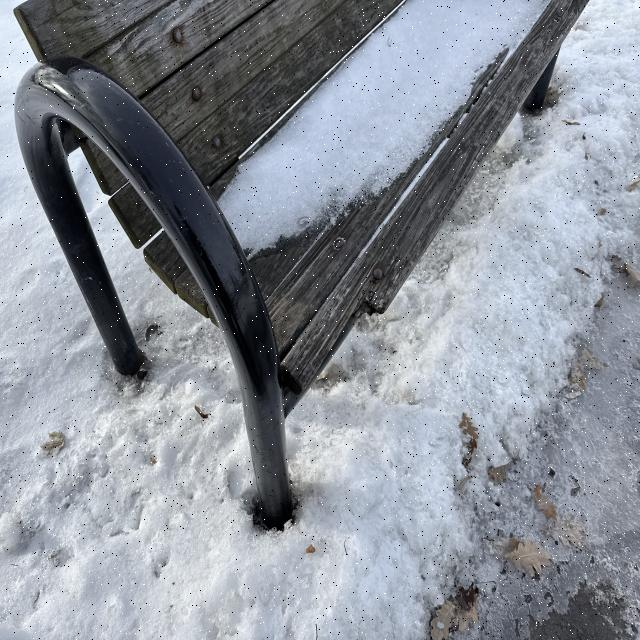Bench: (14, 0, 429, 510)
